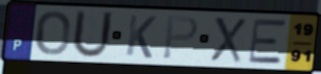E: (247, 18, 288, 66)
K: (123, 13, 159, 61)
O: (35, 10, 72, 57)
P: (160, 15, 200, 62)
U: (69, 8, 116, 61)
X: (208, 15, 248, 65)
